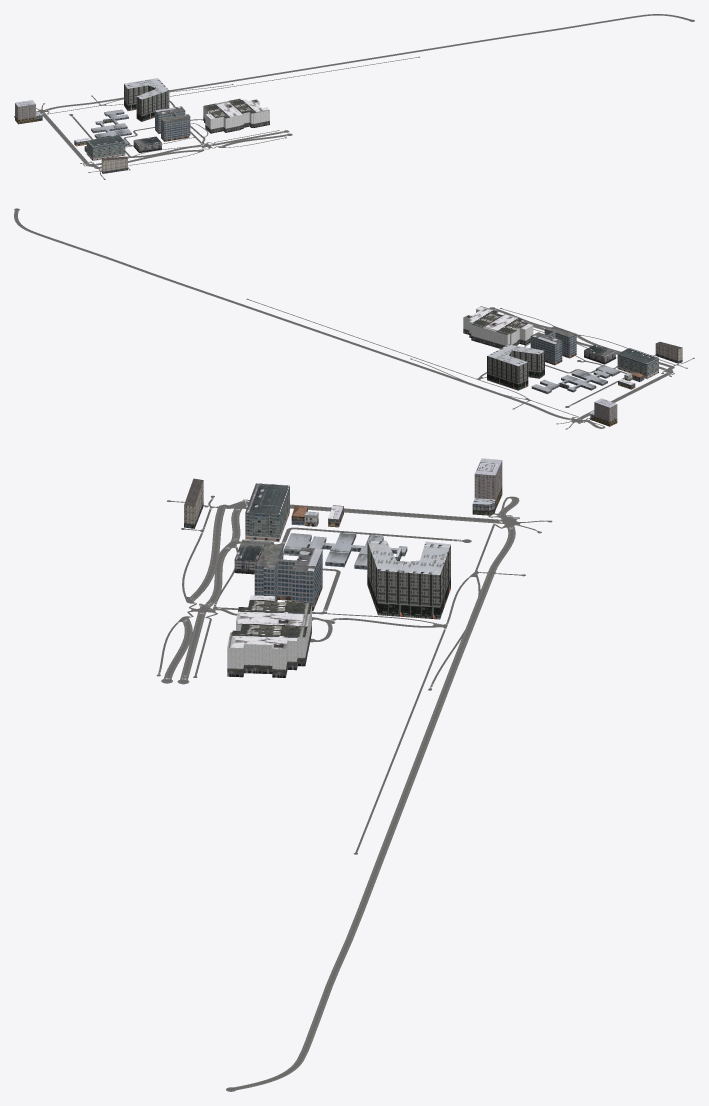
Rendered from citytest_0.fbx.
The picture shows the model from 3 angles, top to bottom: view 1: azimuth 30°, elevation 25°; view 2: azimuth 150°, elevation 25°; view 3: azimuth 270°, elevation 25°; orthographic projection. The views are drawn at different scales.
Parts seen in each view (by area): view 1: CityEngineMaterial_1_m, CityEngineMaterial_3_m, CityEngineMaterial_14_m, CityEngineMaterial_18_m, CityEngineMaterial_17_m, CityEngineMaterial_8_m, CityEngineMaterial_38_m, CityEngineMaterial_44_m, CityEngineMaterial_2_m, CityEngineMaterial_15_m, CityEngineMaterial_16_m, CityEngineMaterial_9_m (+4 smaller); view 2: CityEngineMaterial_1_m, CityEngineMaterial_3_m, CityEngineMaterial_14_m, CityEngineMaterial_18_m, CityEngineMaterial_8_m, CityEngineMaterial_17_m, CityEngineMaterial_38_m, CityEngineMaterial_44_m, CityEngineMaterial_15_m, CityEngineMaterial_13_m, CityEngineMaterial_37_m, CityEngineMaterial_2_m (+2 smaller); view 3: CityEngineMaterial_1_m, CityEngineMaterial_3_m, CityEngineMaterial_18_m, CityEngineMaterial_14_m, CityEngineMaterial_8_m, CityEngineMaterial_17_m, CityEngineMaterial_2_m, CityEngineMaterial_15_m, CityEngineMaterial_38_m, CityEngineMaterial_13_m, CityEngineMaterial_9_m, CityEngineMaterial_44_m (+2 smaller).
Boxes of the visible parts, <box> form: CityEngineMaterial_1_m: <box>36,14,690,174</box>; CityEngineMaterial_3_m: <box>14,14,694,168</box>; CityEngineMaterial_14_m: <box>124,84,169,115</box>; CityEngineMaterial_18_m: <box>204,98,269,118</box>; CityEngineMaterial_17_m: <box>203,102,269,129</box>; CityEngineMaterial_8_m: <box>155,110,190,139</box>; CityEngineMaterial_38_m: <box>91,109,131,143</box>; CityEngineMaterial_44_m: <box>86,141,125,158</box>; CityEngineMaterial_2_m: <box>42,14,693,167</box>; CityEngineMaterial_15_m: <box>124,78,168,99</box>; CityEngineMaterial_16_m: <box>203,116,269,133</box>; CityEngineMaterial_9_m: <box>155,106,189,122</box>; CityEngineMaterial_1_m: <box>15,210,685,428</box>; CityEngineMaterial_3_m: <box>14,208,674,428</box>; CityEngineMaterial_14_m: <box>487,350,544,383</box>; CityEngineMaterial_18_m: <box>464,306,532,334</box>; CityEngineMaterial_8_m: <box>530,329,576,362</box>; CityEngineMaterial_17_m: <box>463,309,533,345</box>; CityEngineMaterial_38_m: <box>532,365,619,391</box>; CityEngineMaterial_44_m: <box>617,354,658,376</box>; CityEngineMaterial_15_m: <box>487,344,544,366</box>; CityEngineMaterial_13_m: <box>487,368,544,390</box>; CityEngineMaterial_37_m: <box>531,368,620,394</box>; CityEngineMaterial_2_m: <box>15,209,672,428</box>; CityEngineMaterial_1_m: <box>160,497,542,1089</box>; CityEngineMaterial_3_m: <box>161,496,519,1091</box>; CityEngineMaterial_18_m: <box>227,595,311,648</box>; CityEngineMaterial_14_m: <box>367,541,450,606</box>; CityEngineMaterial_8_m: <box>254,546,322,606</box>; CityEngineMaterial_17_m: <box>227,597,311,669</box>; CityEngineMaterial_2_m: <box>163,497,517,1089</box>; CityEngineMaterial_15_m: <box>367,540,450,574</box>; CityEngineMaterial_38_m: <box>284,532,407,565</box>; CityEngineMaterial_13_m: <box>367,573,450,619</box>; CityEngineMaterial_9_m: <box>255,544,322,572</box>; CityEngineMaterial_44_m: <box>245,486,289,537</box>.
Size of the model in its own units: 1345 by 51.62 by 376.
Materials: 49 (49 with a texture image).
